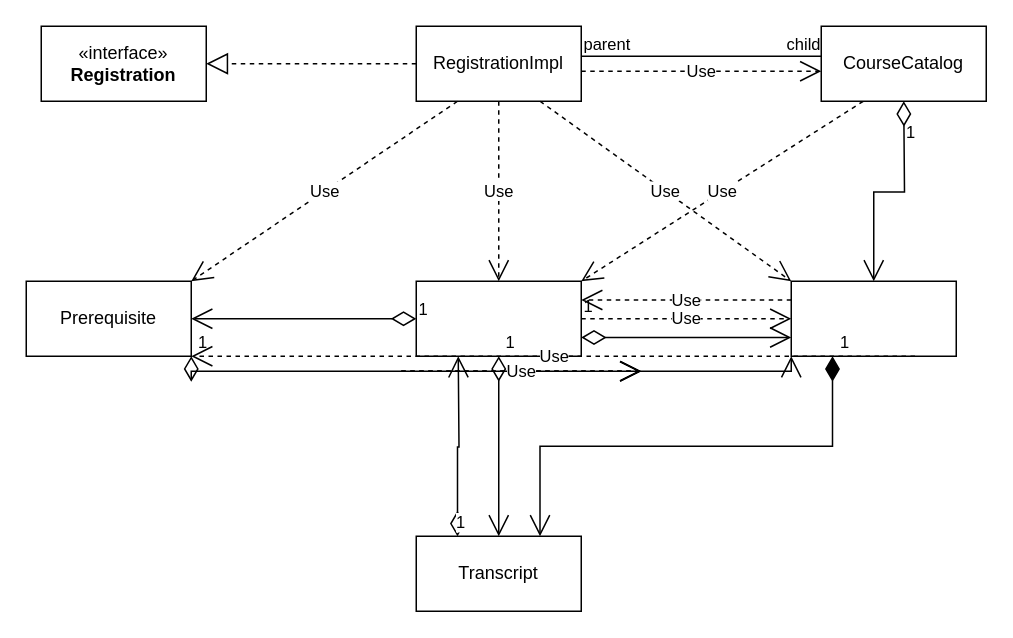
Image size: 1013x638. Some labels were removed from this diagram. The centre of each missing label's shape, as x and y in pixels:
"Course" goes at point 873,318.
"Student" goes at point 498,318.
